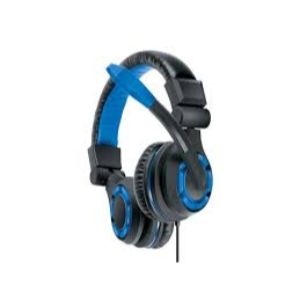headset: (79, 45, 222, 257)
